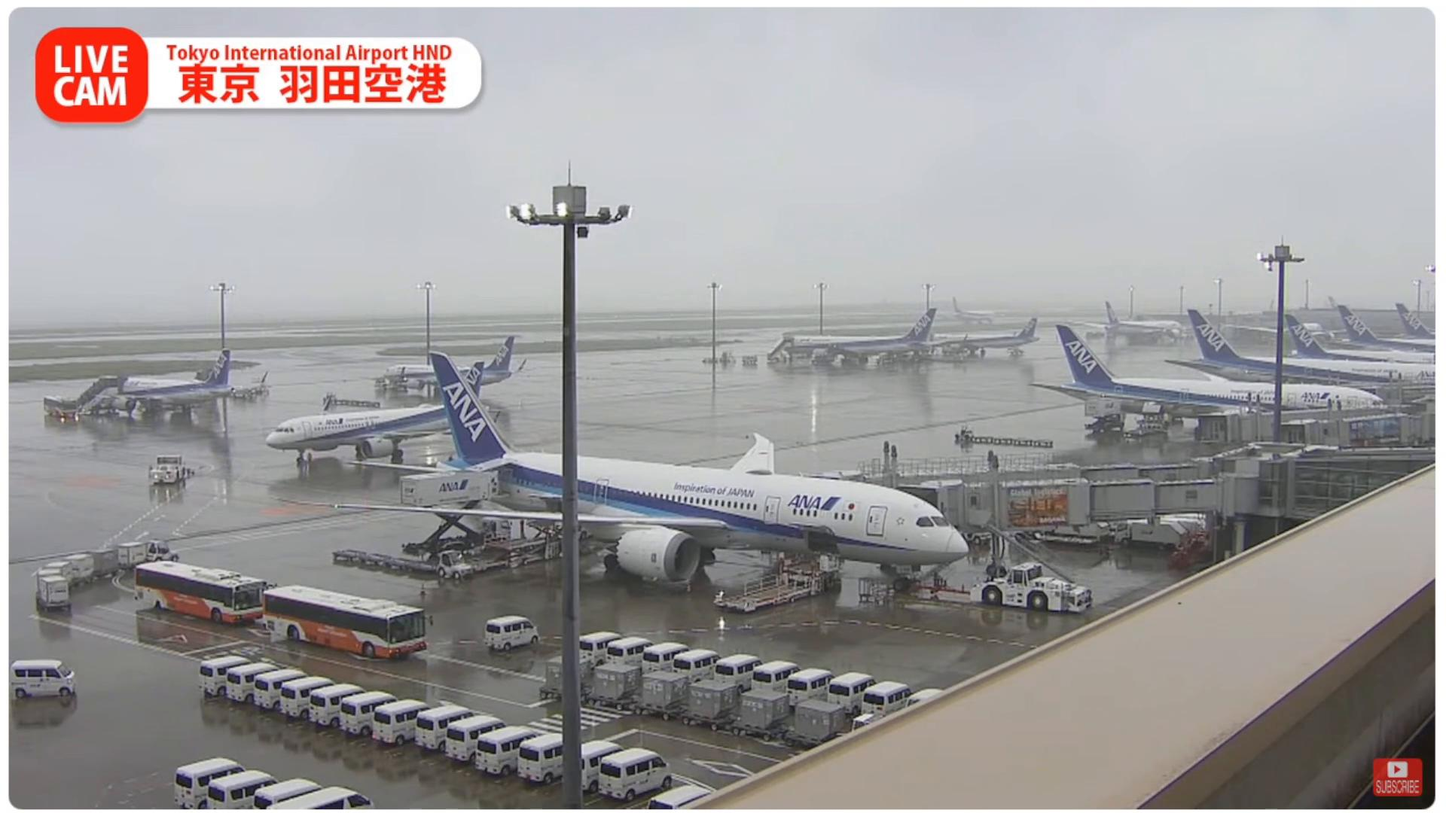APS: (968, 562, 1094, 614)
Aerobridge: (796, 455, 1210, 515), (990, 474, 1182, 535)
Airplane: (270, 351, 970, 592)
Catering: (400, 469, 510, 555)
Dolly: (332, 548, 434, 575)
JCPL: (712, 556, 833, 613), (461, 521, 564, 571)
Tractor: (434, 550, 472, 580)
Window: (1292, 458, 1433, 516)
